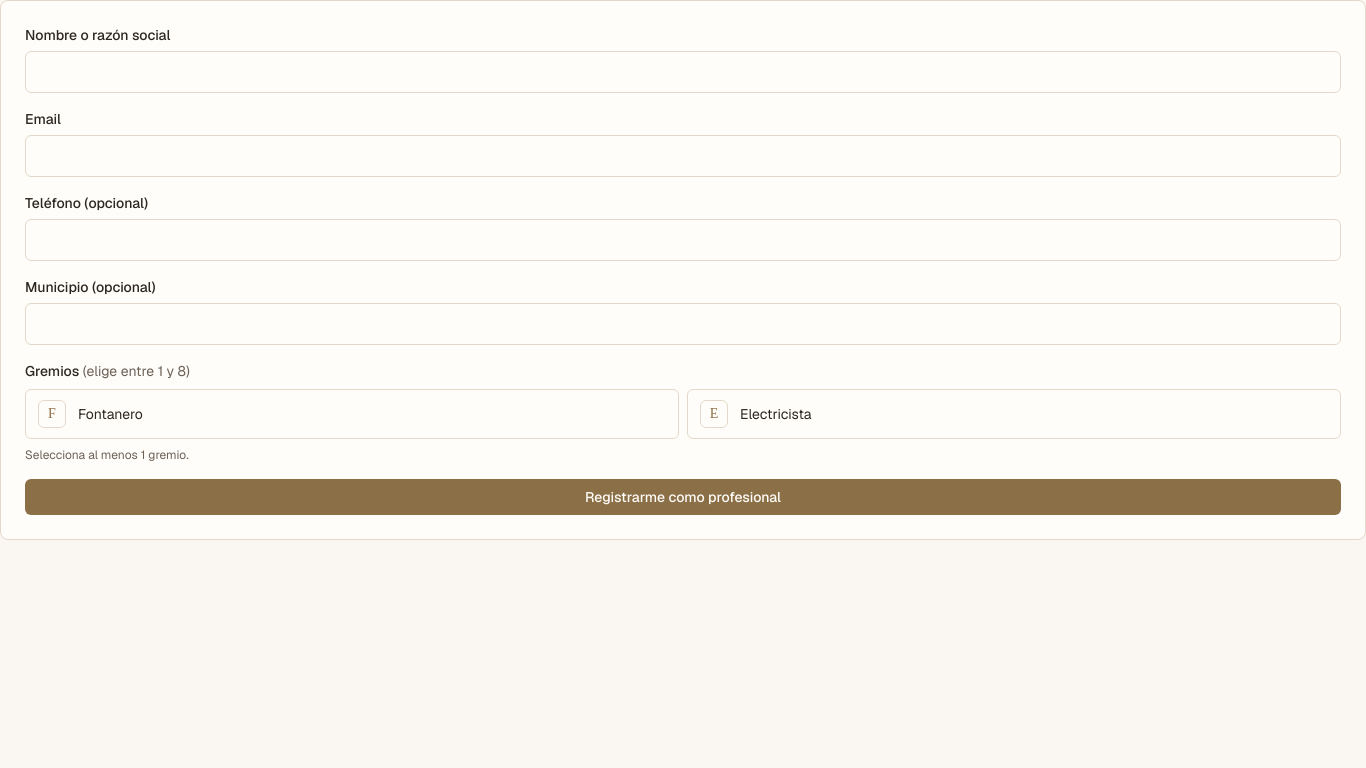
Test case: FormularioAlta › sin_gremios_no_envia_el_registro_y_muestra_el_aviso
Check: the checkbox labelled "Fontanero" is shown, box [25,389,679,439]
Type "Luis Fontanero" into the field labelled "Nombre o razón social" at (683, 72), box [25,51,1341,93]
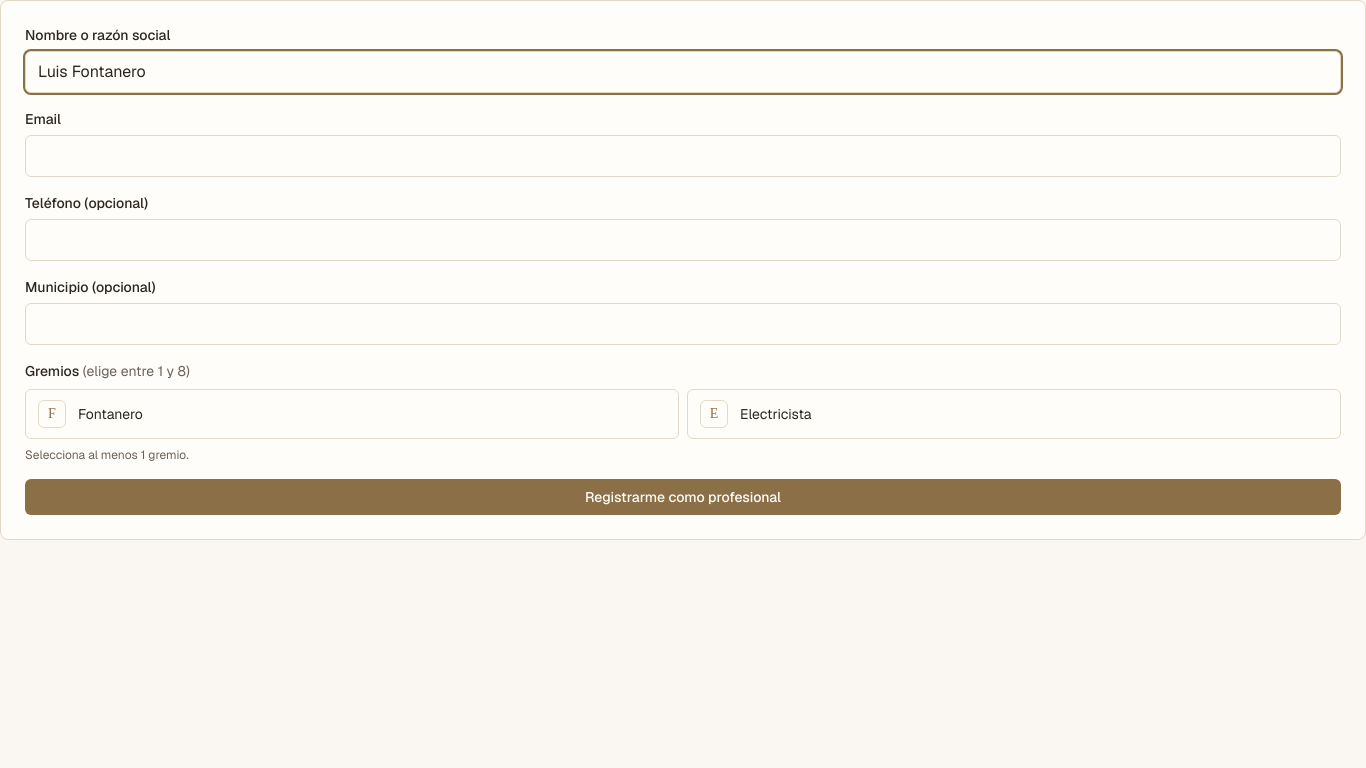
Type "luis@ejemplo.com" into the field labelled "Email" at (683, 156), box [25,135,1341,177]
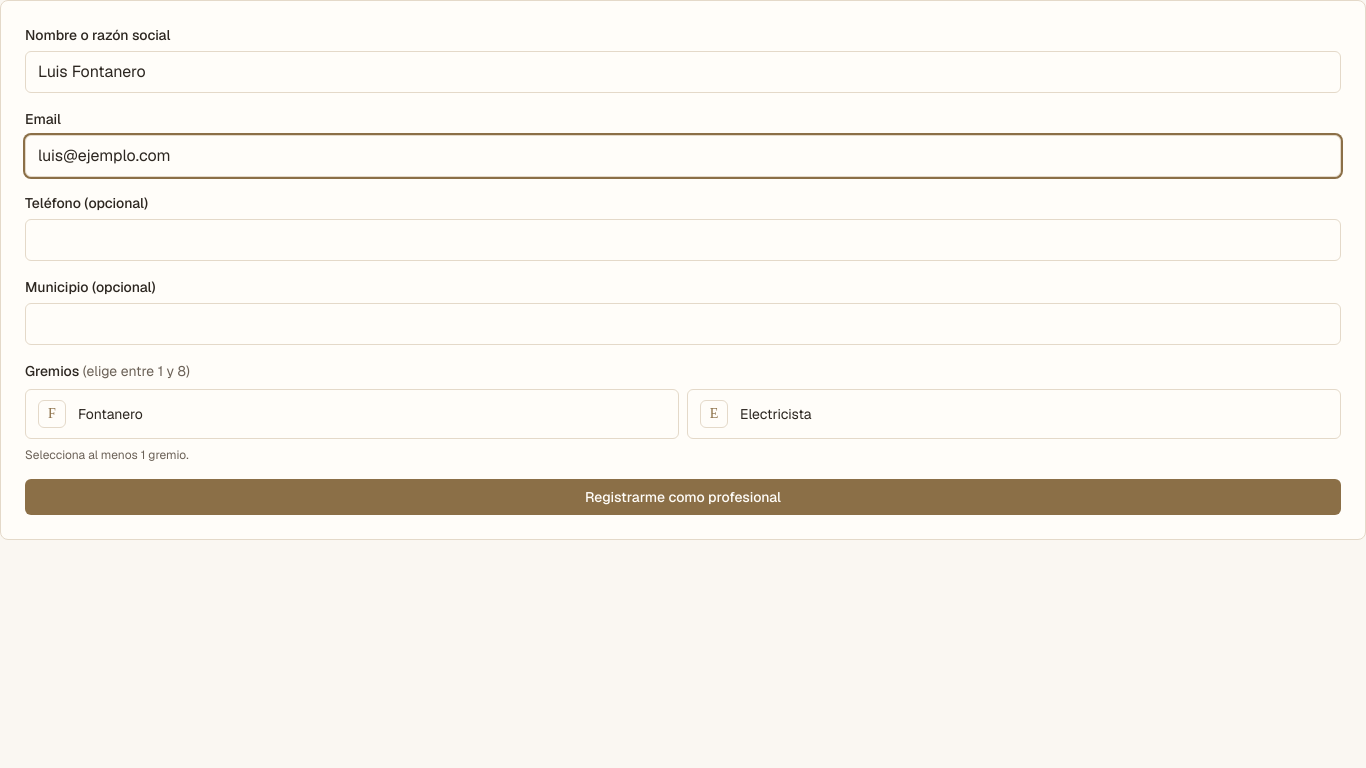
Click the button "Registrarme como profesional" at (683, 497), box [25,479,1341,515]
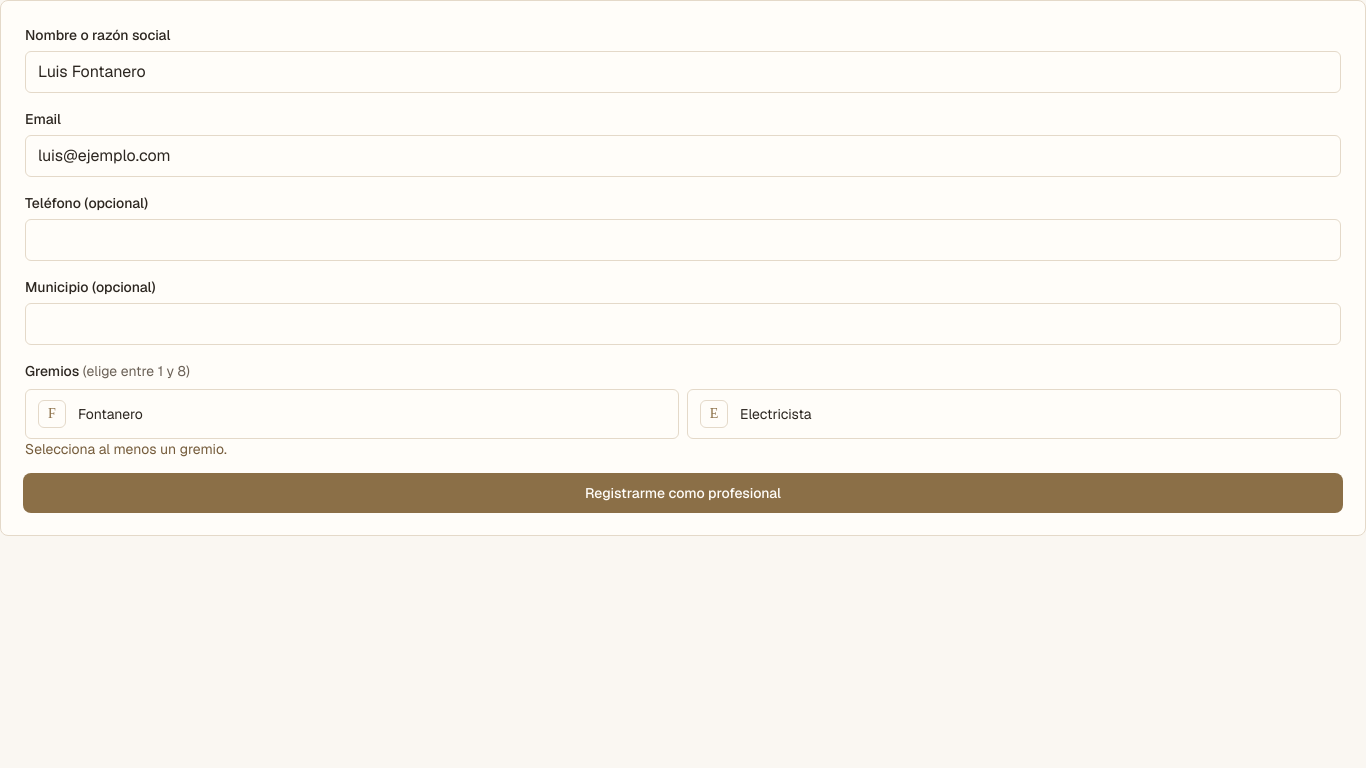
Check: the text "Selecciona al menos un gremio." is shown, box [25,440,227,458]
